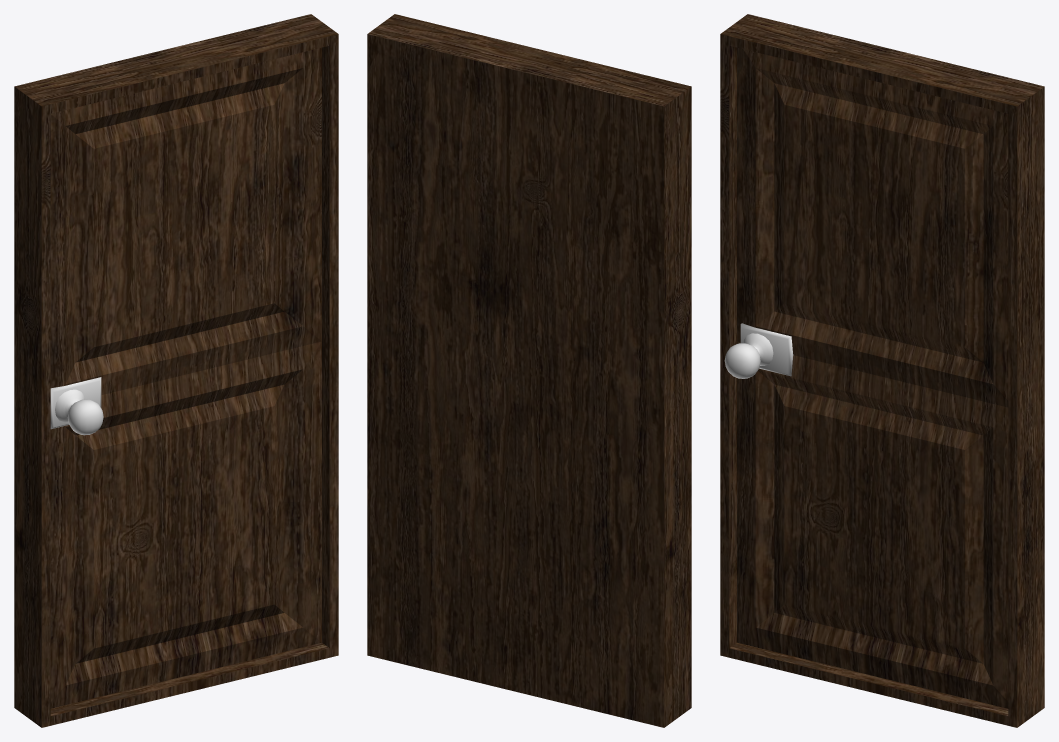
File: Door.fbx
3 renders of one model, left to right at view 1: azimuth 30°, elevation 25°; view 2: azimuth 150°, elevation 25°; view 3: azimuth 330°, elevation 25°, orthographic.
Parts seen in each view (by area): view 1: Door, Doorknob; view 2: Door; view 3: Door, Doorknob.
Part boxes in pixels (bbox=[...]): Door: bbox=[14, 14, 338, 727]; Doorknob: bbox=[50, 377, 103, 435]; Door: bbox=[367, 14, 691, 727]; Door: bbox=[720, 14, 1044, 727]; Doorknob: bbox=[724, 323, 793, 378].
Size of the model in its own units: 500 by 1000 by 134.
2 materials, 1 textured.
